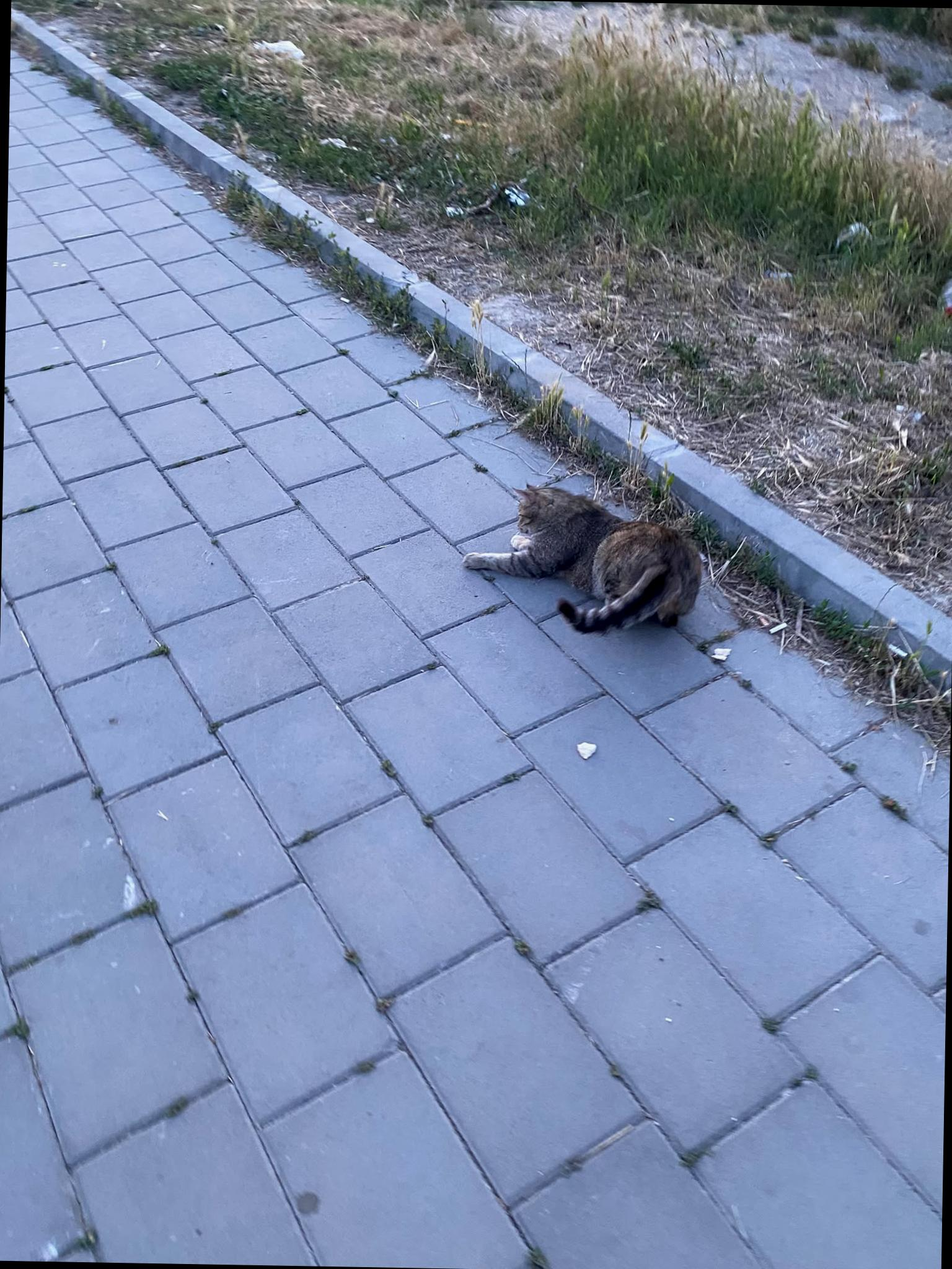macka: (459, 483, 704, 633)
